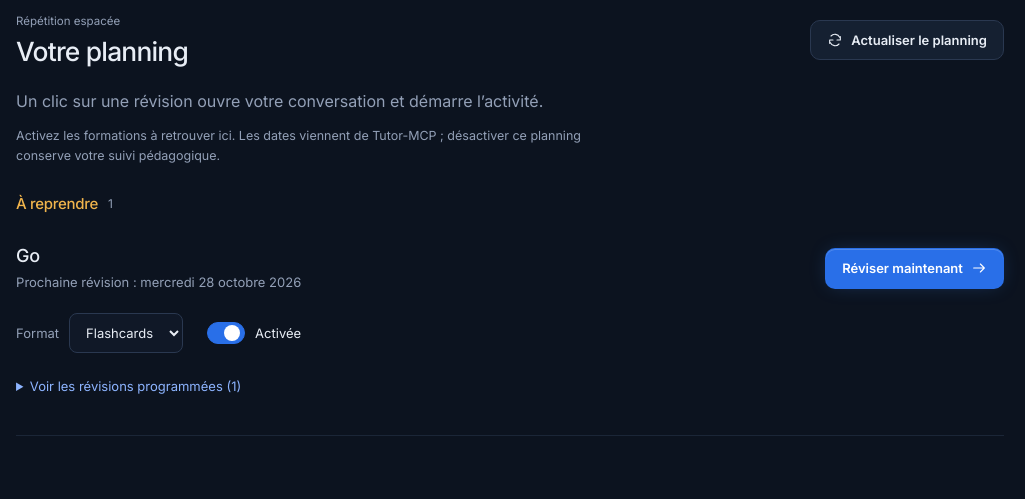
Planning screen › opens the correct formation and modality in one click and exposes server dates
The width and height of the screenshot is (1025, 499).
Step 1. Click the button with aria-label "Réviser Go" → (915, 268), box [825, 248, 1004, 288]
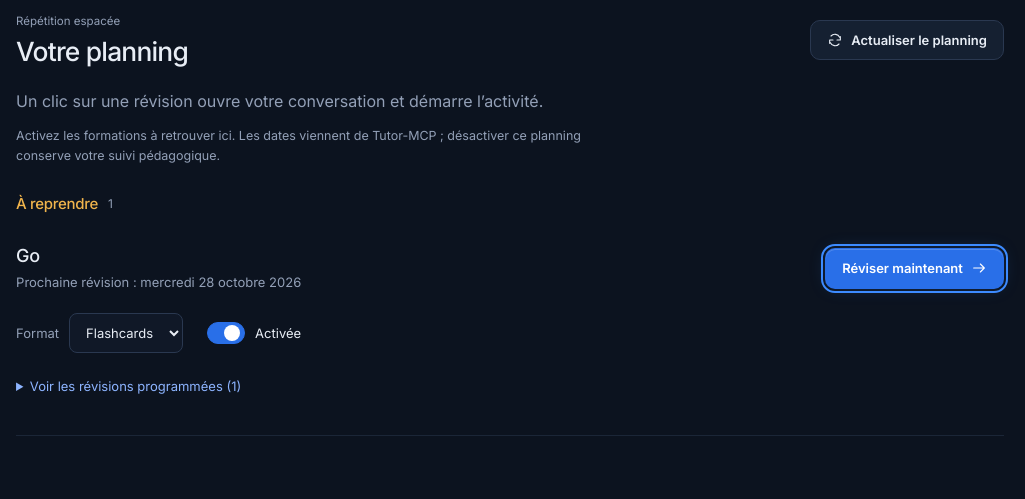
Step 2. Click the heading "Voir les révisions programmées (1)" → (135, 386), box [30, 378, 241, 394]
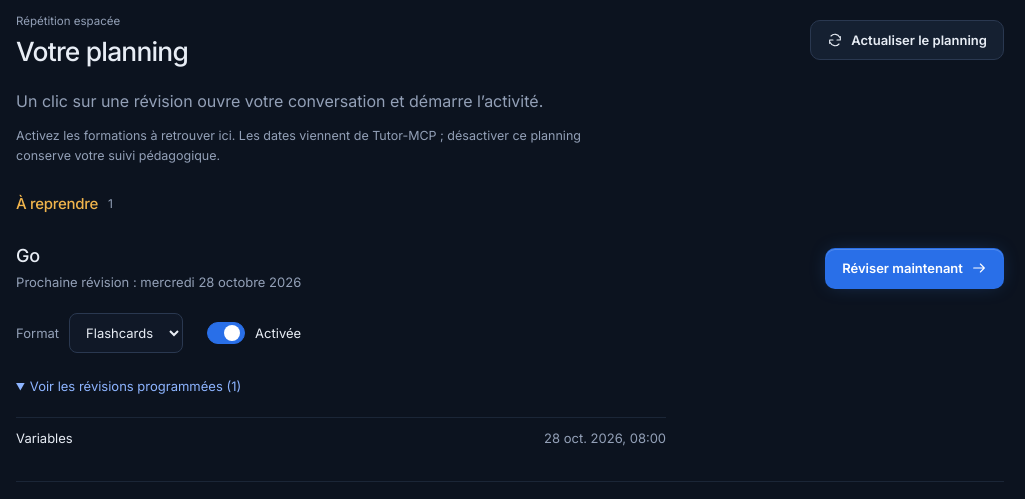
Expected: the text "Variables" is shown, [16, 428, 73, 449]
